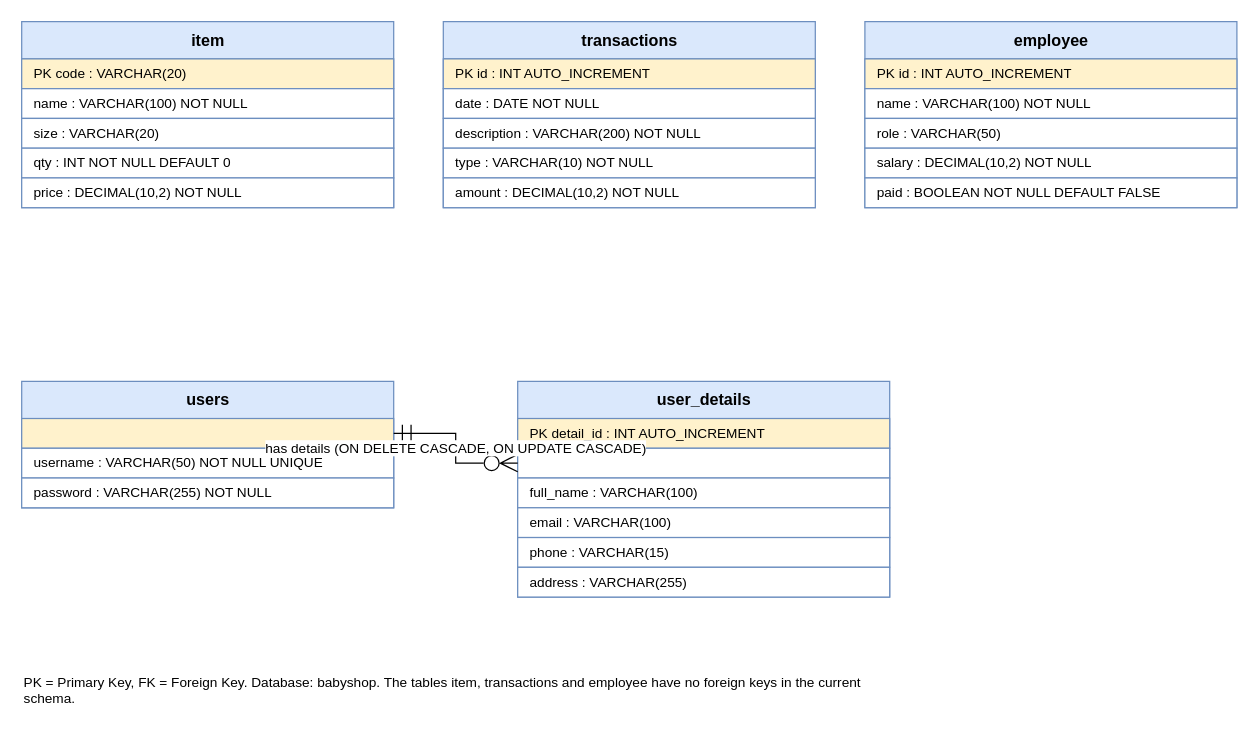
Some shapes in this 1259 by 738 pixel diagram are drawn without their labels. The centre of each missing label's shape, as x and y in pixels:
FK user_id : INT NOT NULL: the point at 703,462
PK user_id : INT AUTO_INCREMENT: the point at 207,432
